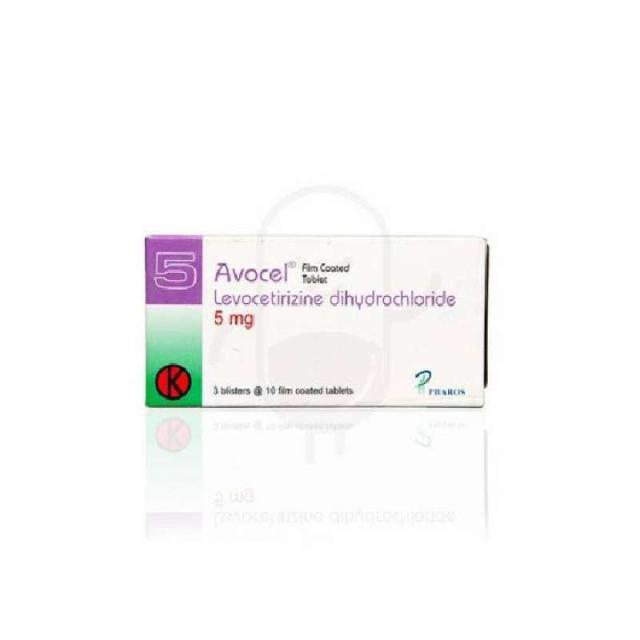drug-name: (212, 260, 294, 286)
